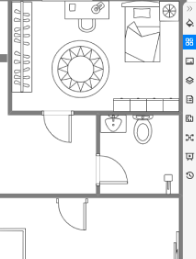door: (38, 104, 82, 154), (53, 188, 93, 240), (92, 150, 138, 187)
